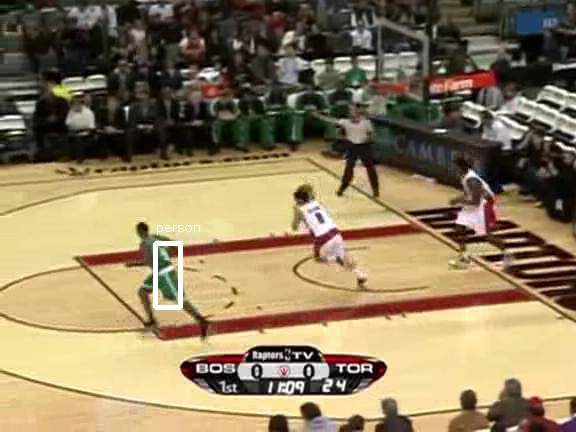person: (145, 231, 179, 312), (144, 231, 178, 312), (146, 231, 180, 312), (145, 230, 179, 311), (145, 232, 179, 313)
target_negative: (43, 49, 431, 191), (58, 249, 339, 389), (247, 181, 319, 391), (357, 213, 507, 271), (91, 255, 539, 271), (223, 296, 432, 297)
